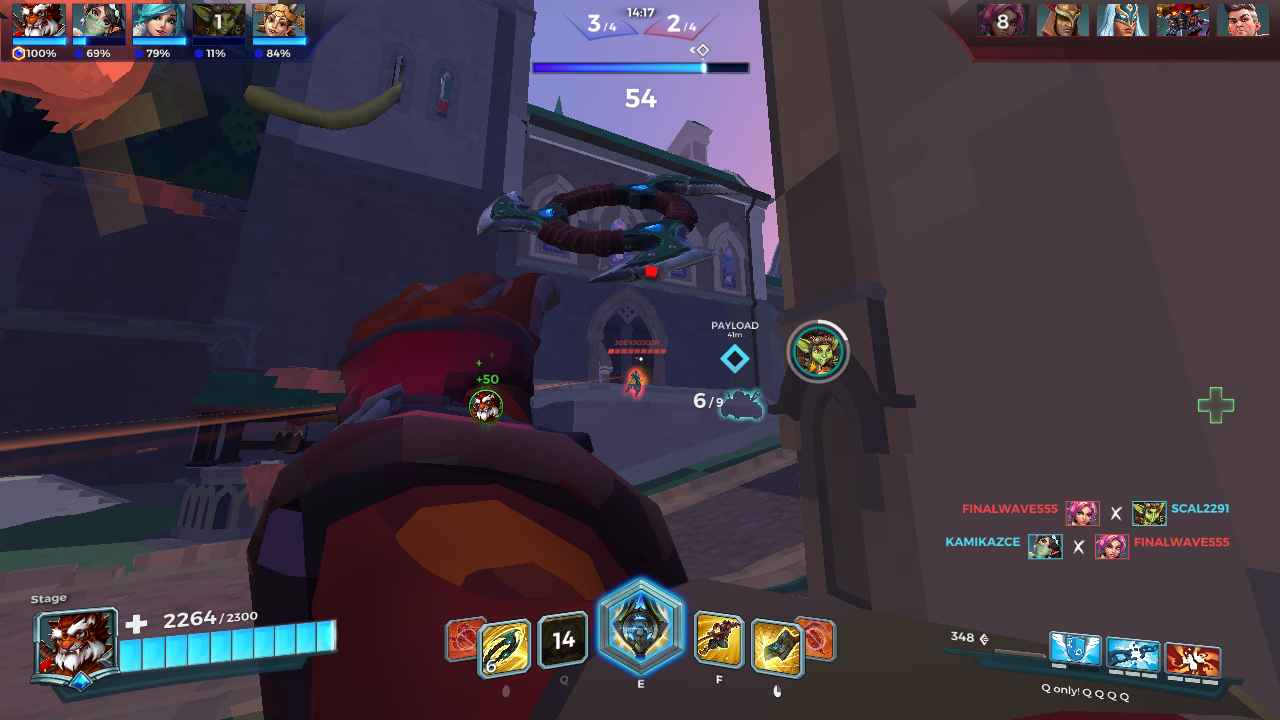model: (620, 362, 644, 399)
